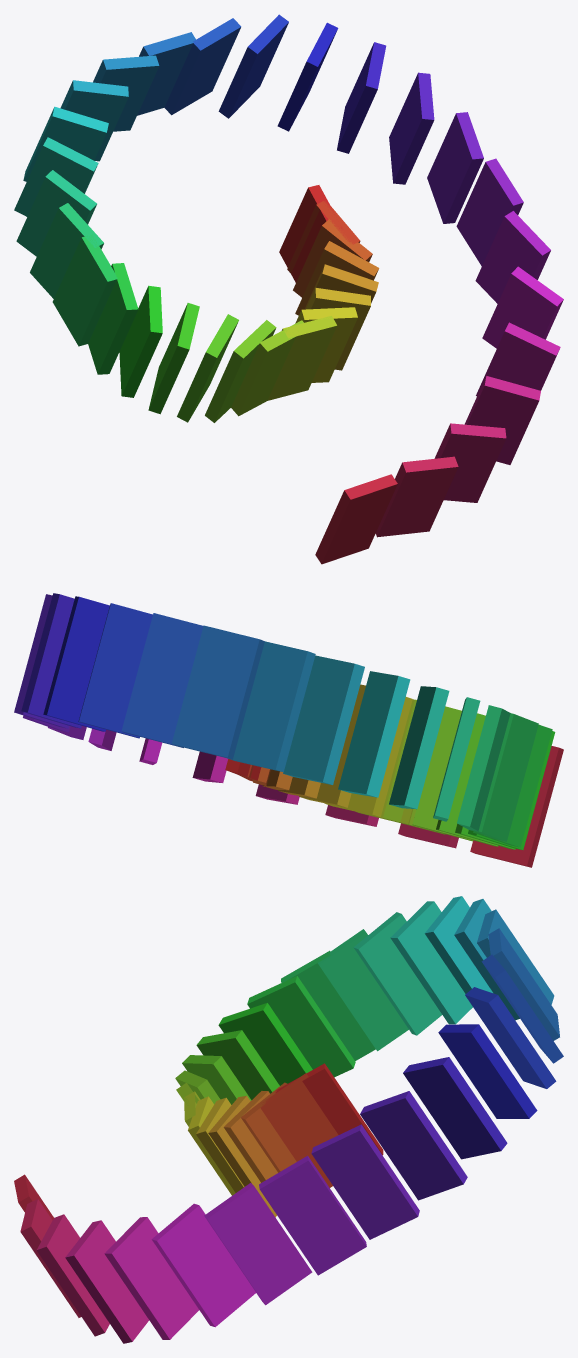
Rendered from dominoes.glb.
3 views of the same model, one above another, from view 1: azimuth 30°, elevation 25°; view 2: azimuth 150°, elevation 25°; view 3: azimuth 270°, elevation 25° (orthographic). The views are drawn at different scales.
Size of the model in its own units: 3.01 by 2.48 by 3.45.
